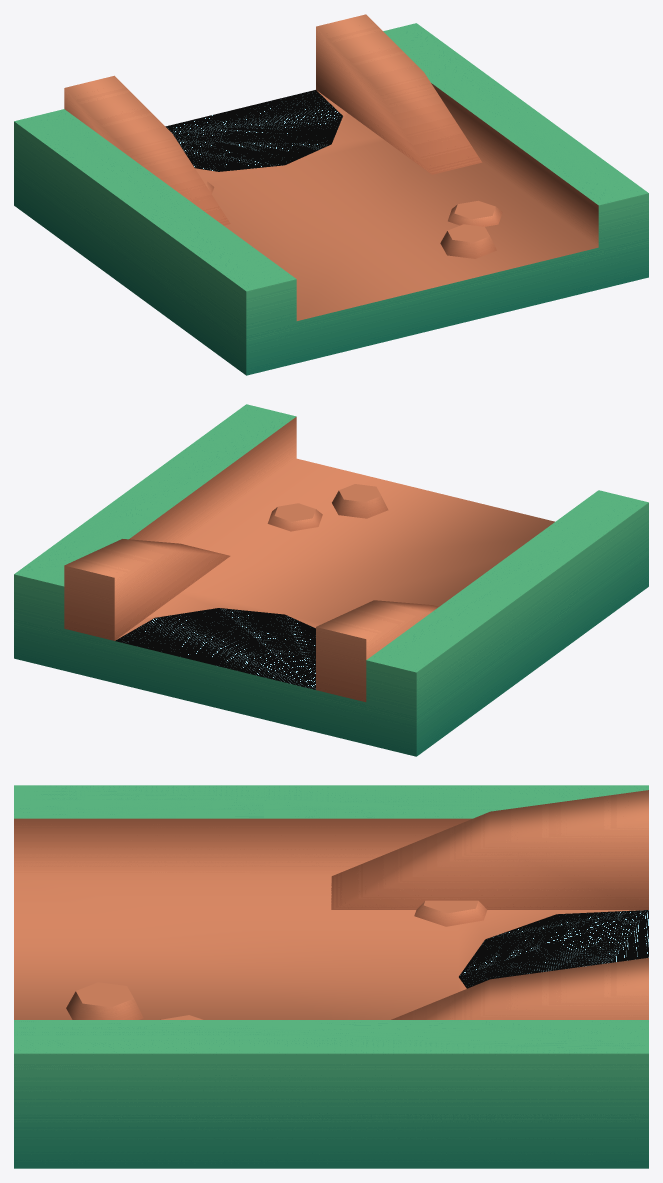
The model's file is tower-defense-kit--tile-river-transition.glb.
3 views of the same model, one above another, from view 1: azimuth 30°, elevation 25°; view 2: azimuth 150°, elevation 25°; view 3: azimuth 270°, elevation 25° (orthographic). The views are drawn at different scales.
Visible parts, largest first — view 1: tile-river-transition; view 2: tile-river-transition; view 3: tile-river-transition.
Boxes of the visible parts, x1,y1,x2,y2 form: tile-river-transition: (14, 14, 648, 375); tile-river-transition: (14, 404, 648, 756); tile-river-transition: (14, 785, 648, 1168).
Bounding box in the file's own units: 1 × 0.25 × 1.
1 material, 1 textured.
